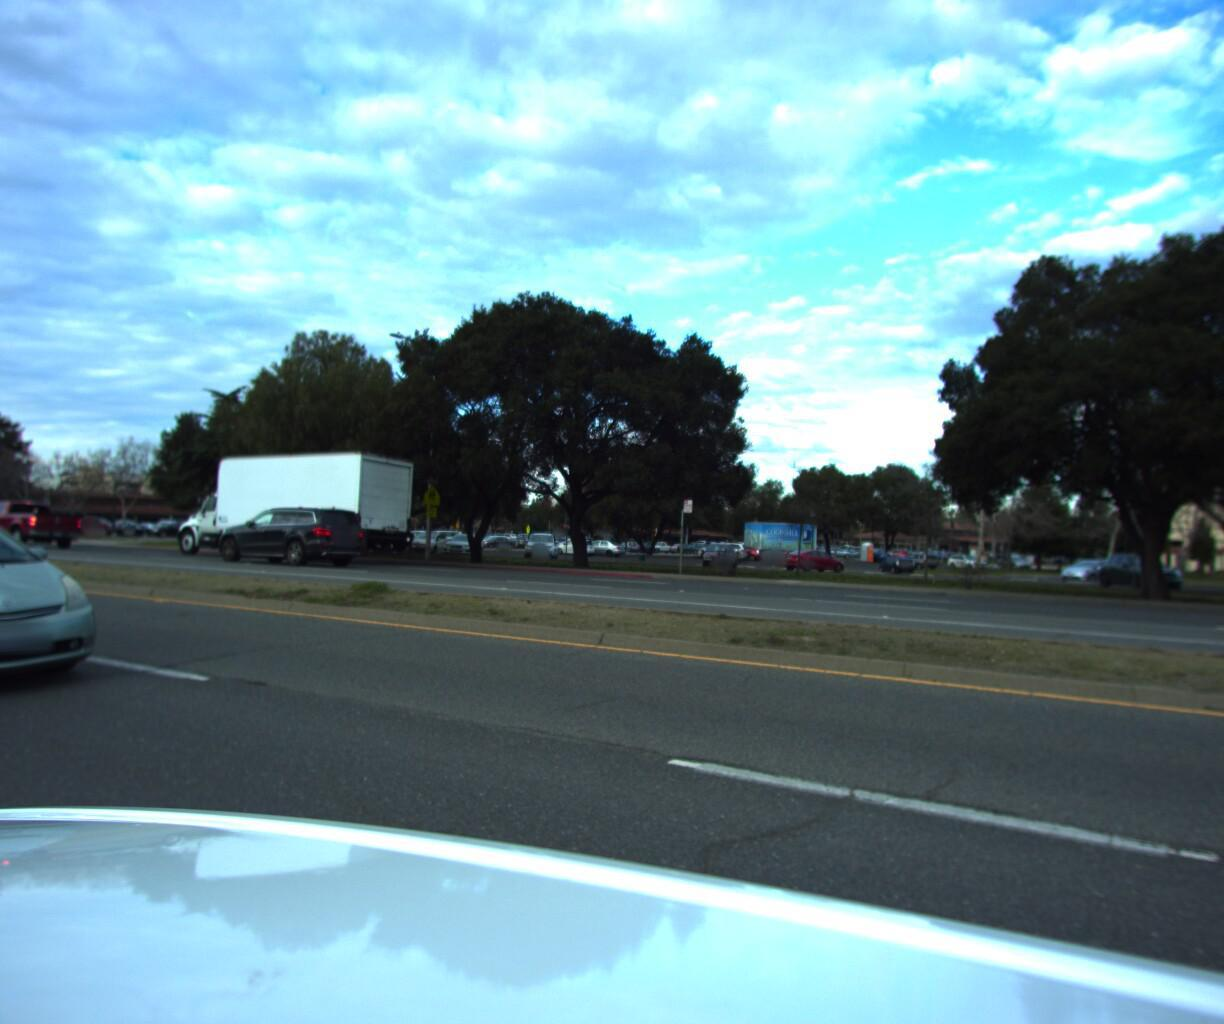car: (0, 499, 128, 728), (212, 501, 372, 565), (0, 498, 83, 545), (53, 513, 111, 531)
truck: (169, 444, 423, 564)
